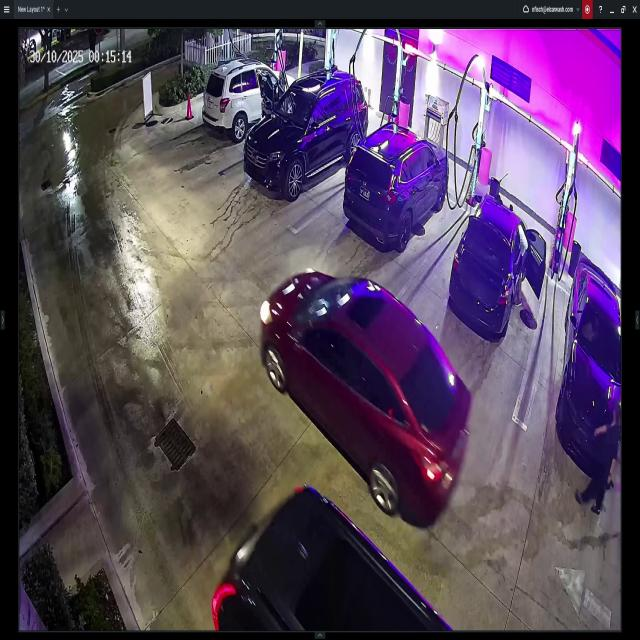Car: (255, 261, 471, 520), (220, 489, 452, 640), (248, 69, 364, 196), (337, 127, 448, 253), (460, 190, 545, 341), (566, 256, 620, 479), (202, 52, 298, 139)
